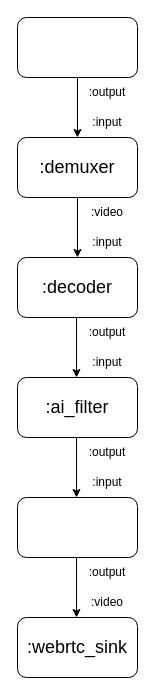
The diagram is 155 pixels wide and 695 high, and some of its shapes have lost their labels. Here are the shapes that lost their labels. From the top down, the centre of each, then its label:
At (x=77, y=47): ":file_source".
At (x=77, y=527): ":encoder".
